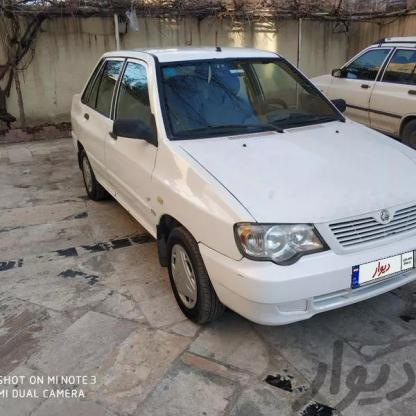Car: (76, 32, 416, 326), (280, 4, 416, 186)
